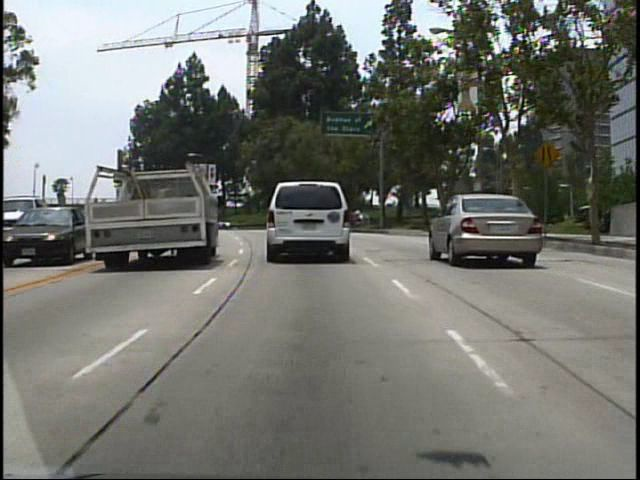person: (452, 193, 471, 234)
